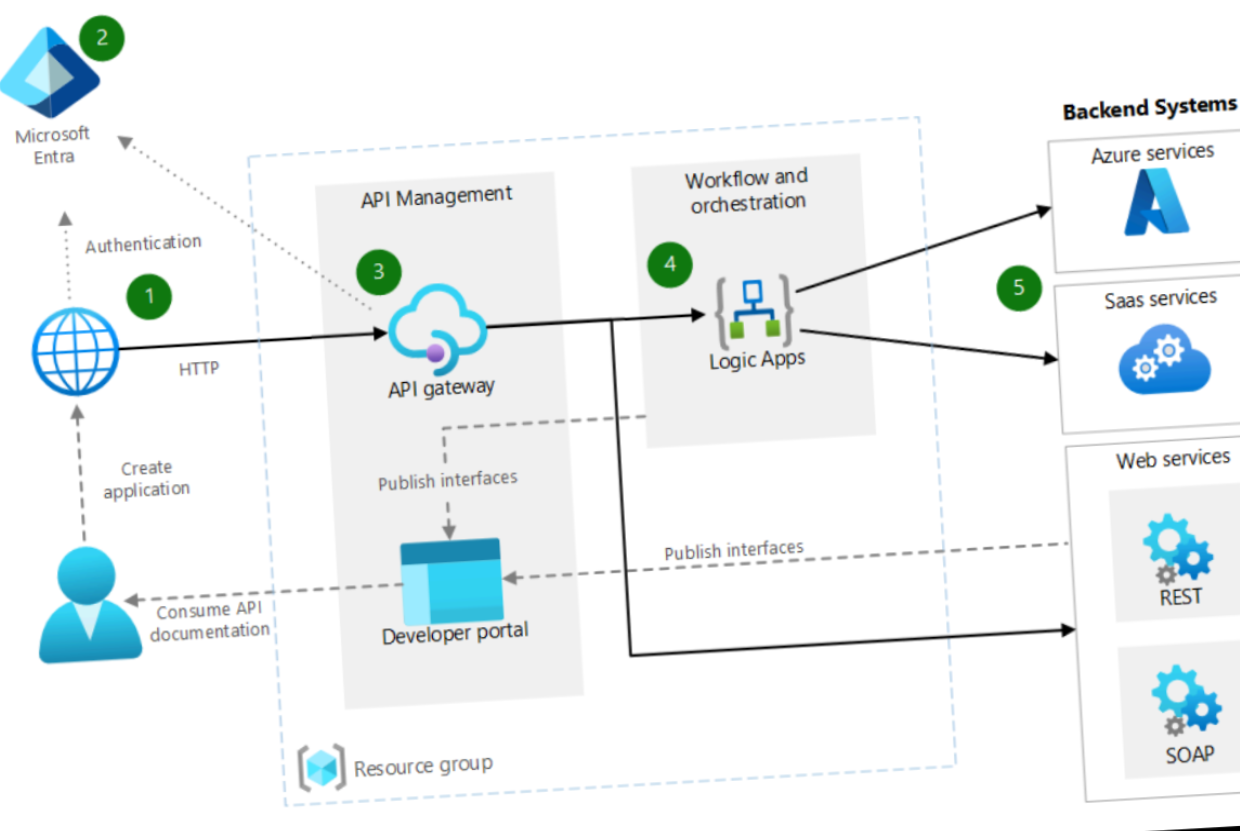api: (1145, 659, 1234, 771), (1134, 506, 1223, 612)
azure_services: (1083, 135, 1226, 245)
developer_portal: (392, 532, 505, 625)
logic_apps: (709, 264, 794, 351)
microsoft_entra: (0, 18, 107, 123), (382, 280, 491, 380)
resource_group: (25, 302, 124, 399), (291, 736, 349, 793)
sass_services: (1104, 313, 1221, 402)
user: (29, 544, 143, 666)
